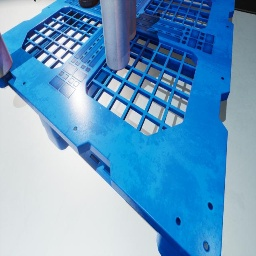0: (100, 0, 130, 71), (0, 32, 13, 78), (129, 0, 136, 41)
NitrogenTank ,: (78, 0, 99, 8)
